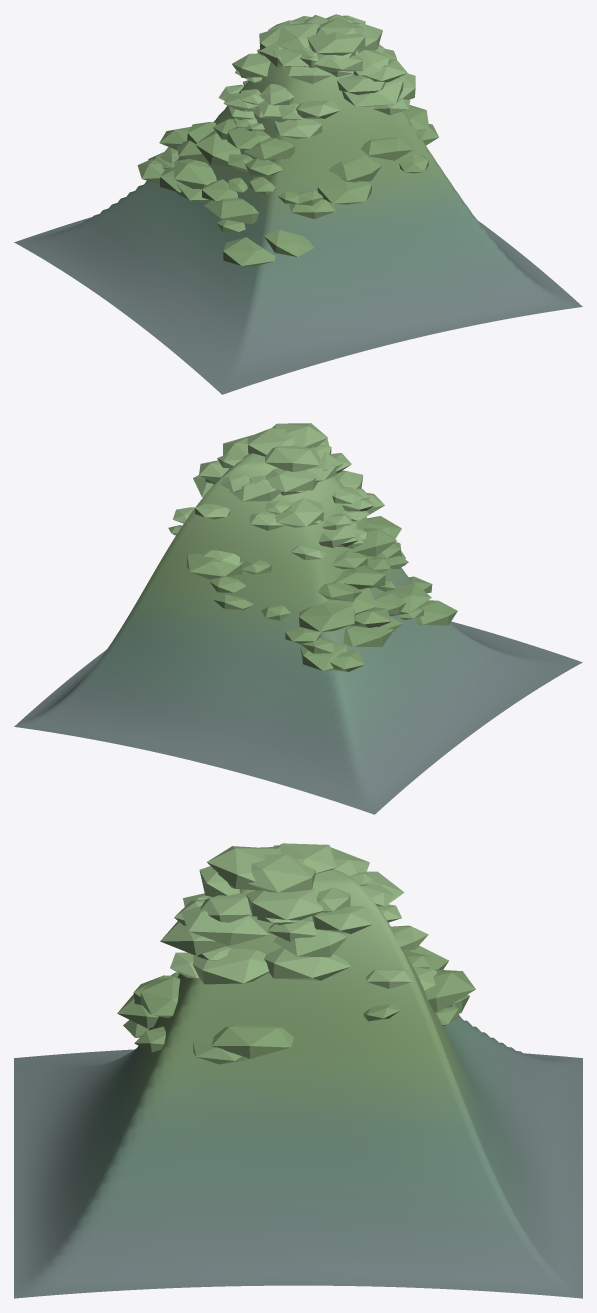
Rendered from mossyGround.glb.
The picture shows the model from 3 angles, top to bottom: view 1: azimuth 30°, elevation 25°; view 2: azimuth 150°, elevation 25°; view 3: azimuth 270°, elevation 25°; orthographic projection. The views are drawn at different scales.
Parts seen in each view (by area): view 1: mossy-terrain, n22, n20, n90, n114, n8, n30, n176, n96, n50, n52, n44 (+15 smaller); view 2: mossy-terrain, n88, n52, n10, n56, n98, n124, n180, n22, n96, n20, n174 (+9 smaller); view 3: mossy-terrain, n178, n86, n124, n184, n182, n140, n22, n56, n142, n44, n36 (+11 smaller).
Boxes of the visible parts, x1=… form: mossy-terrain: x1=14, y1=15, x2=582, y2=394; n22: x1=307, y1=32, x2=365, y2=55; n20: x1=223, y1=237, x2=275, y2=266; n90: x1=317, y1=180, x2=371, y2=204; n114: x1=174, y1=158, x2=216, y2=189; n8: x1=204, y1=198, x2=258, y2=224; n30: x1=329, y1=155, x2=381, y2=181; n176: x1=342, y1=77, x2=403, y2=106; n96: x1=195, y1=130, x2=240, y2=166; n50: x1=264, y1=229, x2=313, y2=256; n52: x1=277, y1=22, x2=320, y2=50; n44: x1=360, y1=137, x2=412, y2=160; mossy-terrain: x1=14, y1=453, x2=582, y2=814; n88: x1=299, y1=602, x2=355, y2=631; n52: x1=265, y1=445, x2=319, y2=471; n10: x1=275, y1=498, x2=323, y2=527; n56: x1=186, y1=553, x2=243, y2=579; n98: x1=265, y1=468, x2=317, y2=491; n124: x1=247, y1=428, x2=294, y2=456; n180: x1=343, y1=625, x2=393, y2=646; n22: x1=271, y1=423, x2=327, y2=448; n96: x1=334, y1=566, x2=385, y2=589; n20: x1=416, y1=600, x2=457, y2=625; n174: x1=346, y1=528, x2=396, y2=556; mossy-terrain: x1=14, y1=869, x2=582, y2=1298; n178: x1=211, y1=1025, x2=293, y2=1058; n86: x1=192, y1=948, x2=268, y2=984; n124: x1=248, y1=854, x2=315, y2=892; n184: x1=246, y1=889, x2=323, y2=920; n182: x1=264, y1=947, x2=350, y2=980; n140: x1=181, y1=906, x2=268, y2=945; n22: x1=207, y1=846, x2=281, y2=890; n56: x1=424, y1=969, x2=475, y2=1012; n142: x1=312, y1=905, x2=372, y2=933; n44: x1=140, y1=977, x2=180, y2=1017; n36: x1=273, y1=930, x2=346, y2=957.
Size of the model in its own units: 8 by 5.26 by 8.
